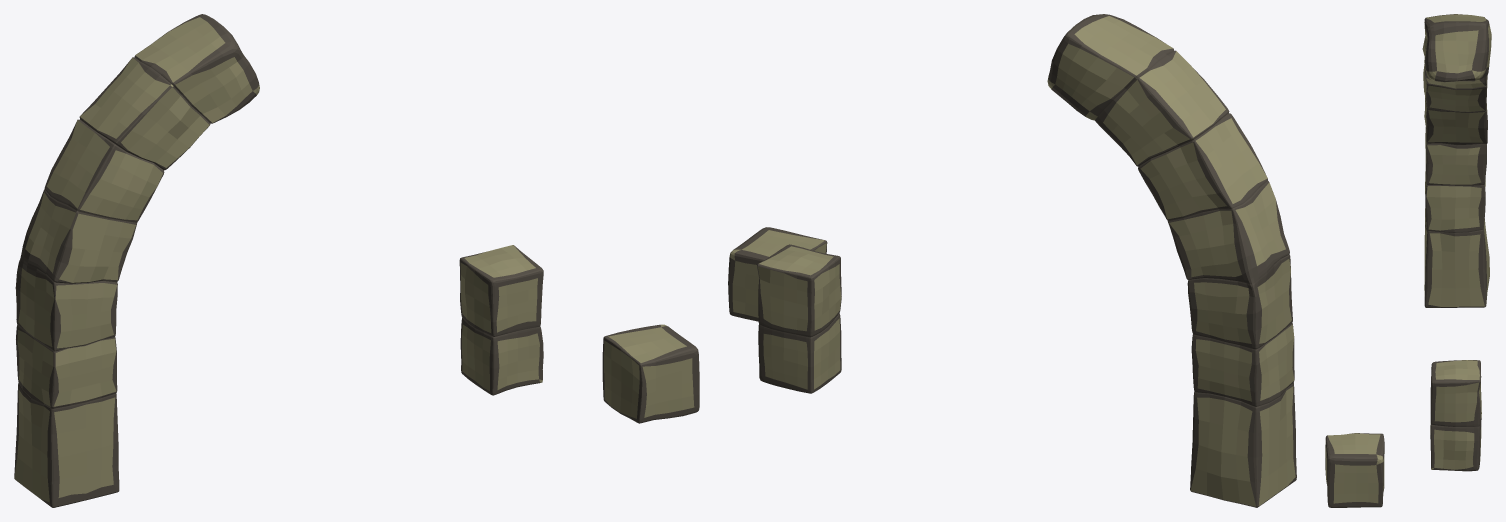
Rendered from Ruines 1.fbx.
3 views of the same model, side by side, from view 1: azimuth 30°, elevation 25°; view 2: azimuth 150°, elevation 25°; view 3: azimuth 270°, elevation 25° (orthographic). The views are drawn at different scales.
Parts seen in each view (by area): view 1: Cube; view 2: Cube; view 3: Cube.
Boxes of the visible parts, box(x1,y1,x2,y2) form: Cube: box(14, 14, 699, 507); Cube: box(728, 14, 1296, 507); Cube: box(1325, 14, 1491, 507).
Bounding box in the file's own units: 515 × 354 × 160.
